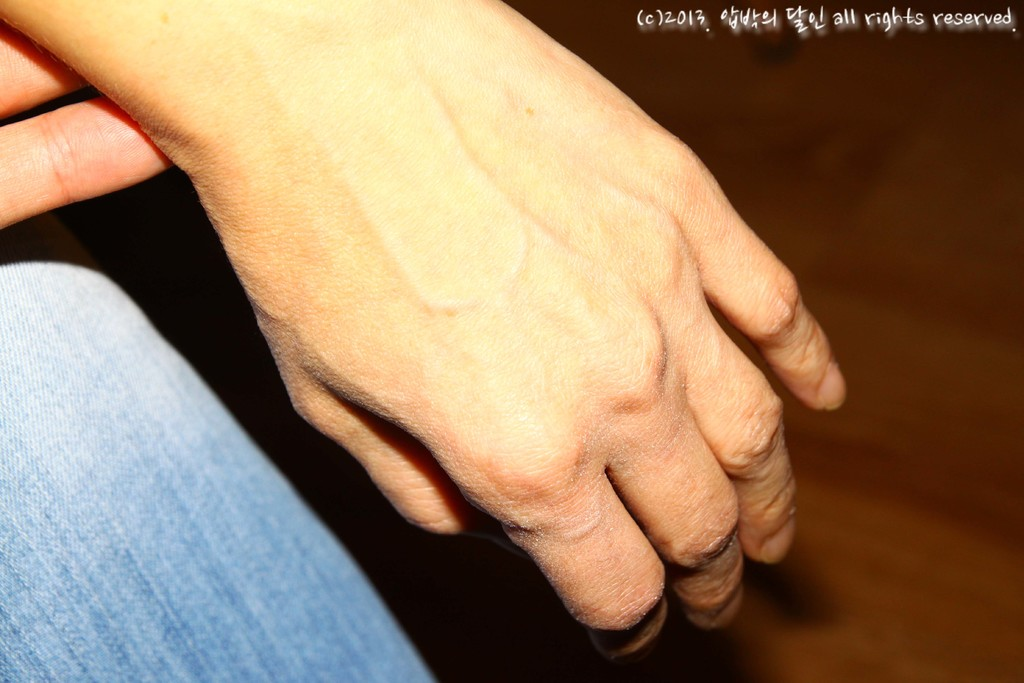Human_hand: (144, 0, 851, 668)
